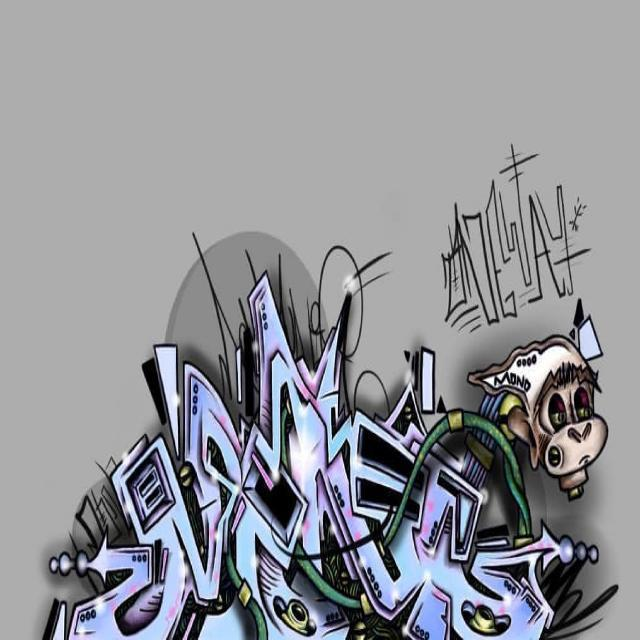-: (21, 270, 610, 639), (466, 330, 614, 518), (438, 173, 582, 322)
